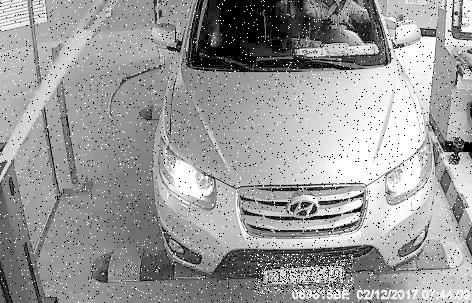License-plate: (255, 255, 355, 295)
